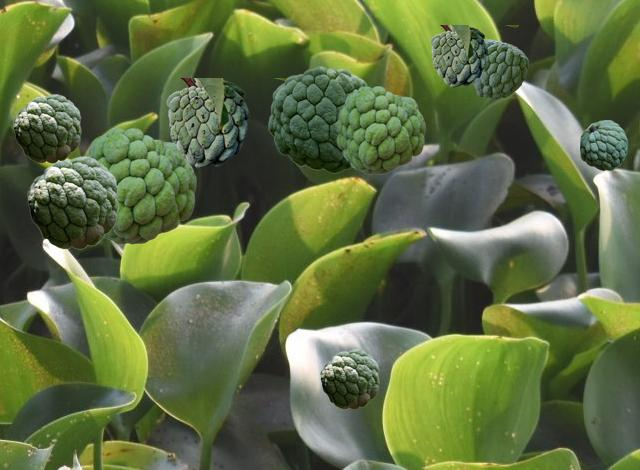atis: (86, 128, 195, 243), (166, 78, 285, 167), (268, 66, 367, 172), (27, 156, 117, 248), (335, 86, 424, 173), (430, 25, 517, 86), (13, 94, 80, 162), (320, 349, 378, 408), (472, 39, 527, 98), (580, 120, 626, 169)
